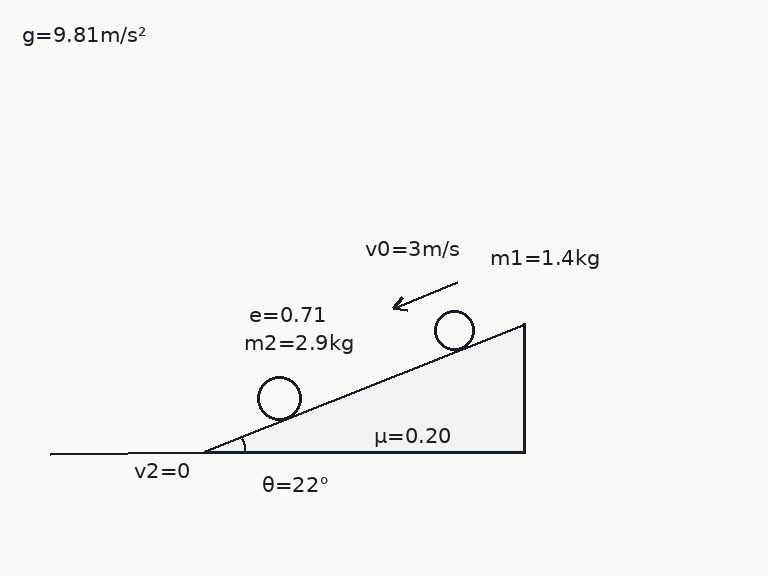ball: (255, 374, 303, 422), (432, 308, 476, 352)
ramp: (203, 321, 527, 454)
